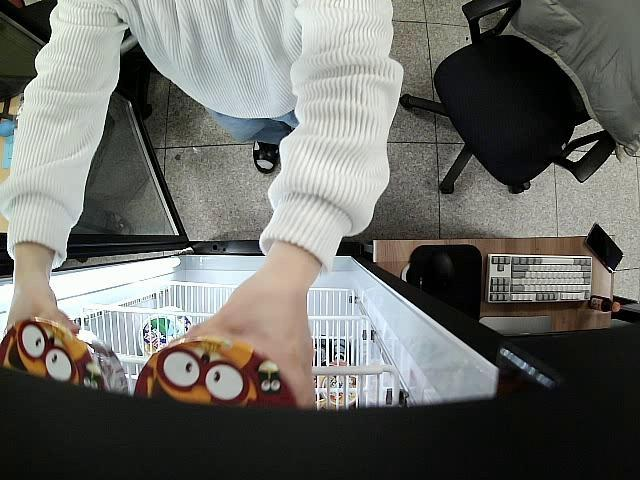05_nuguri_L: (134, 340, 298, 407), (0, 319, 130, 398)
